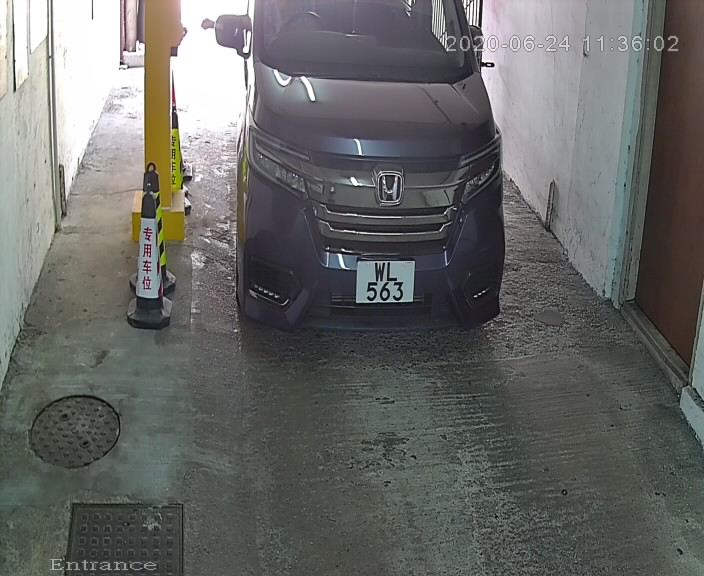Car: (211, 1, 520, 352)
License Plate: (354, 253, 420, 313)
